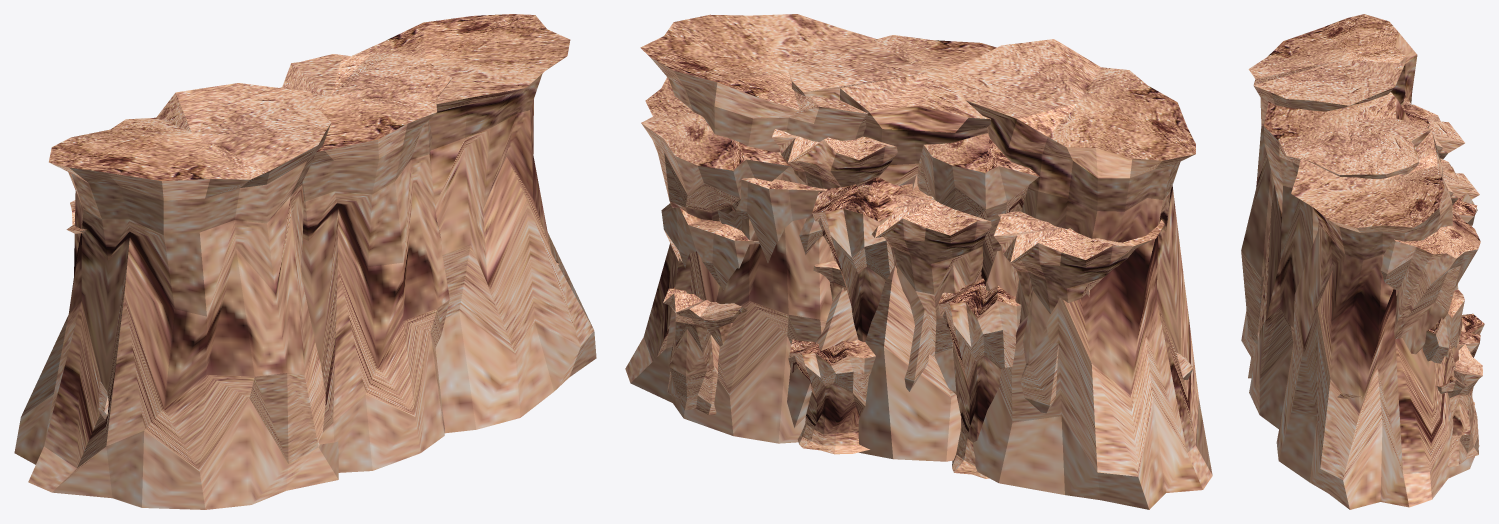
Rendered from Rock_cliff.fbx.
3 views of the same model, side by side, from view 1: azimuth 30°, elevation 25°; view 2: azimuth 150°, elevation 25°; view 3: azimuth 270°, elevation 25° (orthographic). The views are drawn at different scales.
Parts seen in each view (by area): view 1: Cliff_rock3_geo, Cliff_rock2_geo, Cliff_rock1_geo; view 2: Cliff_rock3_geo, Cliff_rock1_geo, Cliff_rock2_geo, Cliff_rock9_geo, Cliff_rock12_geo, Cliff_rock9_geo1, Cliff_rock4_geo, Cliff_rock8_geo, Cliff_rock12_geo2, Cliff_rock_10_geo, Cliff_rock11_geo, Cliff_rock12_geo1 (+2 smaller); view 3: Cliff_rock1_geo, Cliff_rock2_geo, Cliff_rock3_geo, Cliff_rock9_geo1, Cliff_rock11_geo, Cliff_rock6_geo, Cliff_rock9_geo, Cliff_rock_10_geo, Cliff_rock12_geo1, Cliff_rock8_geo, Cliff_rock12_geo2.
Part boxes in pixels (x1=…): Cliff_rock3_geo: x1=14, y1=83, x2=338, y2=509; Cliff_rock2_geo: x1=280, y1=53, x2=451, y2=472; Cliff_rock1_geo: x1=301, y1=14, x2=596, y2=433; Cliff_rock3_geo: x1=947, y1=39, x2=1212, y2=509; Cliff_rock1_geo: x1=625, y1=14, x2=876, y2=443; Cliff_rock2_geo: x1=787, y1=35, x2=996, y2=461; Cliff_rock9_geo: x1=994, y1=211, x2=1193, y2=413; Cliff_rock12_geo: x1=871, y1=194, x2=991, y2=394; Cliff_rock9_geo1: x1=641, y1=77, x2=790, y2=221; Cliff_rock4_geo: x1=938, y1=278, x2=1021, y2=478; Cliff_rock8_geo: x1=812, y1=177, x2=934, y2=341; Cliff_rock12_geo2: x1=917, y1=133, x2=1039, y2=281; Cliff_rock_10_geo: x1=788, y1=338, x2=875, y2=454; Cliff_rock11_geo: x1=663, y1=287, x2=747, y2=414; Cliff_rock12_geo1: x1=772, y1=129, x2=897, y2=188; Cliff_rock1_geo: x1=1276, y1=131, x2=1479, y2=509; Cliff_rock2_geo: x1=1249, y1=92, x2=1465, y2=428; Cliff_rock3_geo: x1=1241, y1=14, x2=1417, y2=378; Cliff_rock9_geo1: x1=1337, y1=206, x2=1480, y2=398; Cliff_rock11_geo: x1=1436, y1=344, x2=1482, y2=467; Cliff_rock6_geo: x1=1422, y1=289, x2=1464, y2=363; Cliff_rock9_geo: x1=1412, y1=104, x2=1464, y2=159; Cliff_rock_10_geo: x1=1459, y1=313, x2=1484, y2=404; Cliff_rock12_geo1: x1=1440, y1=158, x2=1474, y2=205; Cliff_rock8_geo: x1=1452, y1=193, x2=1477, y2=226; Cliff_rock12_geo2: x1=1401, y1=96, x2=1429, y2=128.
Bounding box in the file's own units: 11.84 × 7.04 × 5.33.
Materials: 1 (1 with a texture image).
